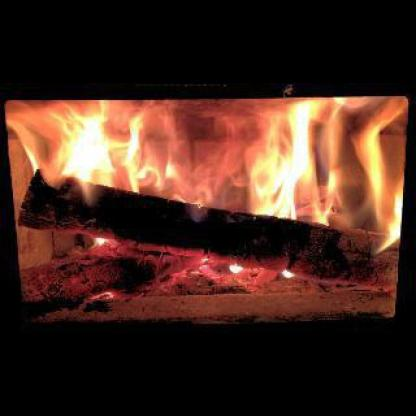fire: (6, 101, 400, 242)
